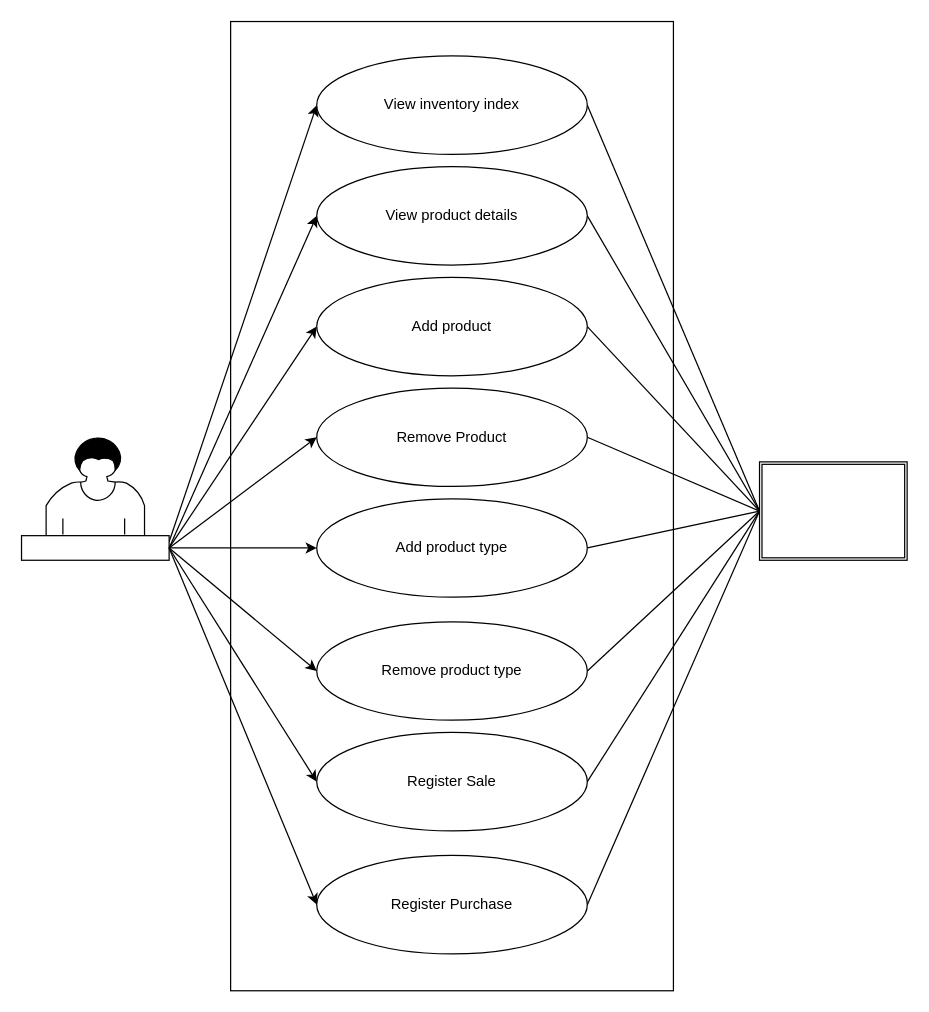
This 929x1012 diagram has some shape labels left out. Each missing label, with the centre of its shape:
"Inventory" goes at point (832, 510).
"Store Owner" goes at point (94, 547).
